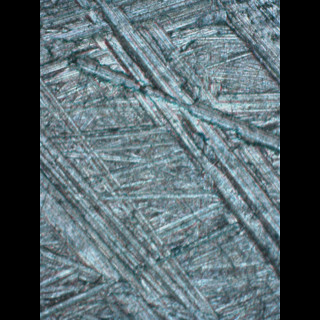d: (96, 0, 279, 295), (39, 80, 223, 319), (209, 0, 279, 87)
